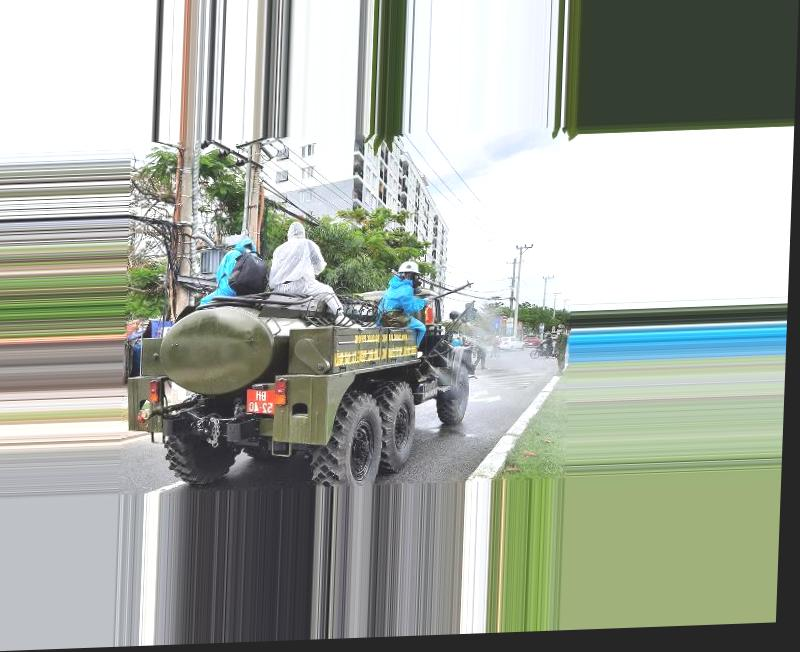License_Plate: (243, 388, 278, 417)
